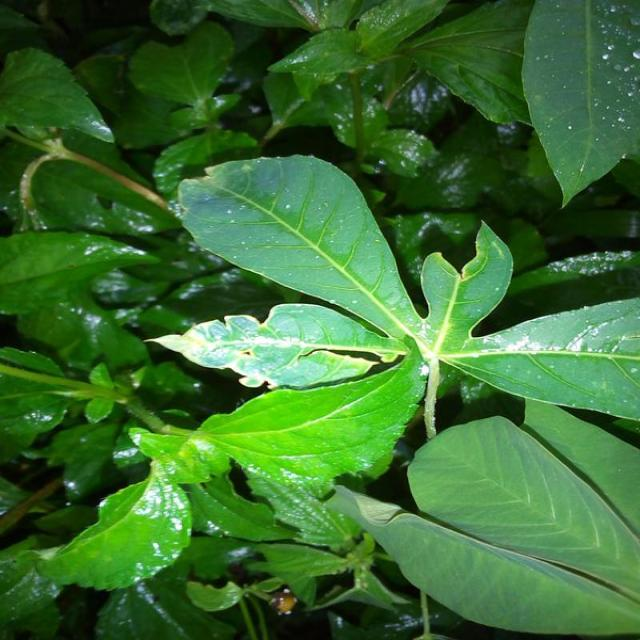cassava leaf: (324, 413, 639, 636), (520, 0, 638, 209)
